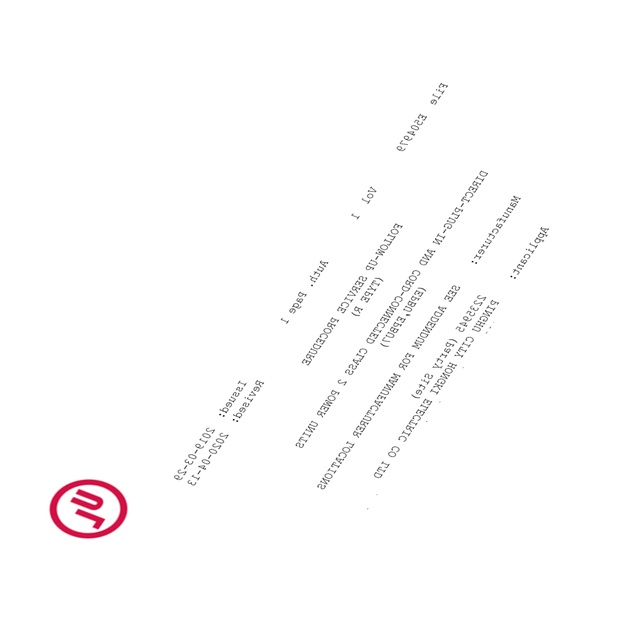ul: (48, 477, 133, 542)
